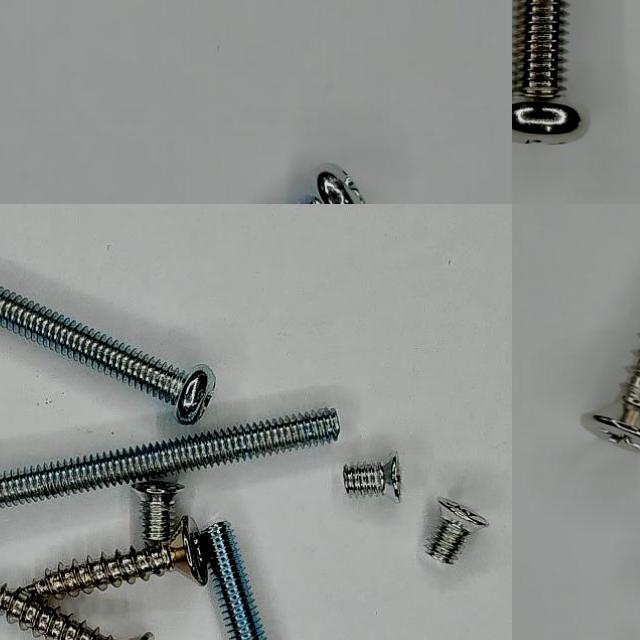Screw: (0, 408, 340, 506), (0, 287, 215, 424), (22, 516, 207, 599), (512, 0, 589, 144), (199, 522, 266, 640), (0, 585, 115, 640), (582, 350, 640, 451), (425, 498, 490, 564), (132, 480, 184, 547), (344, 453, 402, 502), (305, 164, 364, 204)
